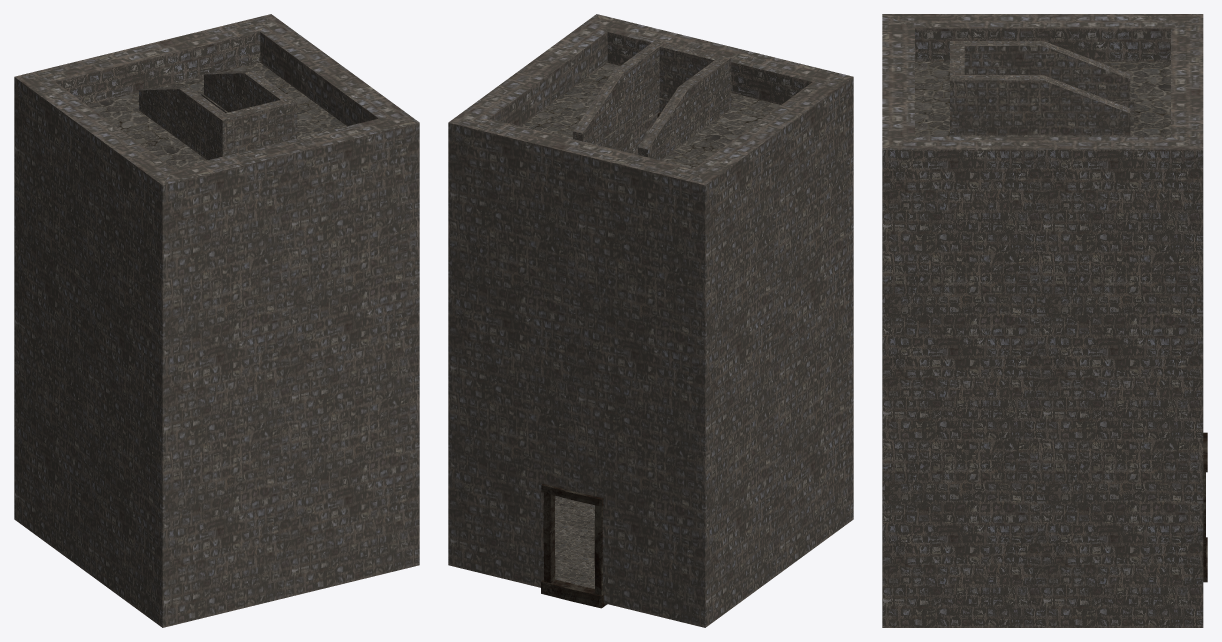
Rendered from CastleSquareTower_Int.fbx.
3 renders of one model, left to right at view 1: azimuth 30°, elevation 25°; view 2: azimuth 150°, elevation 25°; view 3: azimuth 270°, elevation 25°, orthographic. The views are drawn at different scales.
Parts seen in each view (by area): view 1: Square Tower Large Interior; view 2: Square Tower Large Interior; view 3: Square Tower Large Interior.
Part boxes in pixels (x1,y1,x2,y2): Square Tower Large Interior: (14, 14, 419, 627); Square Tower Large Interior: (448, 14, 853, 627); Square Tower Large Interior: (882, 14, 1207, 627).
Bounding box in the file's own units: 600 × 1040 × 608.
